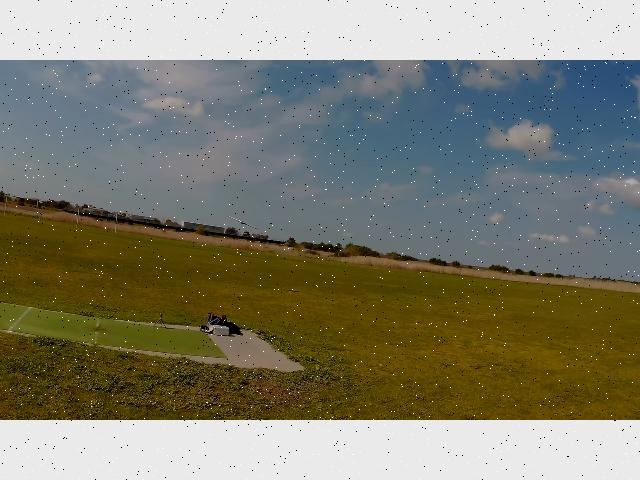Anti-Drone: (228, 215, 260, 230)
